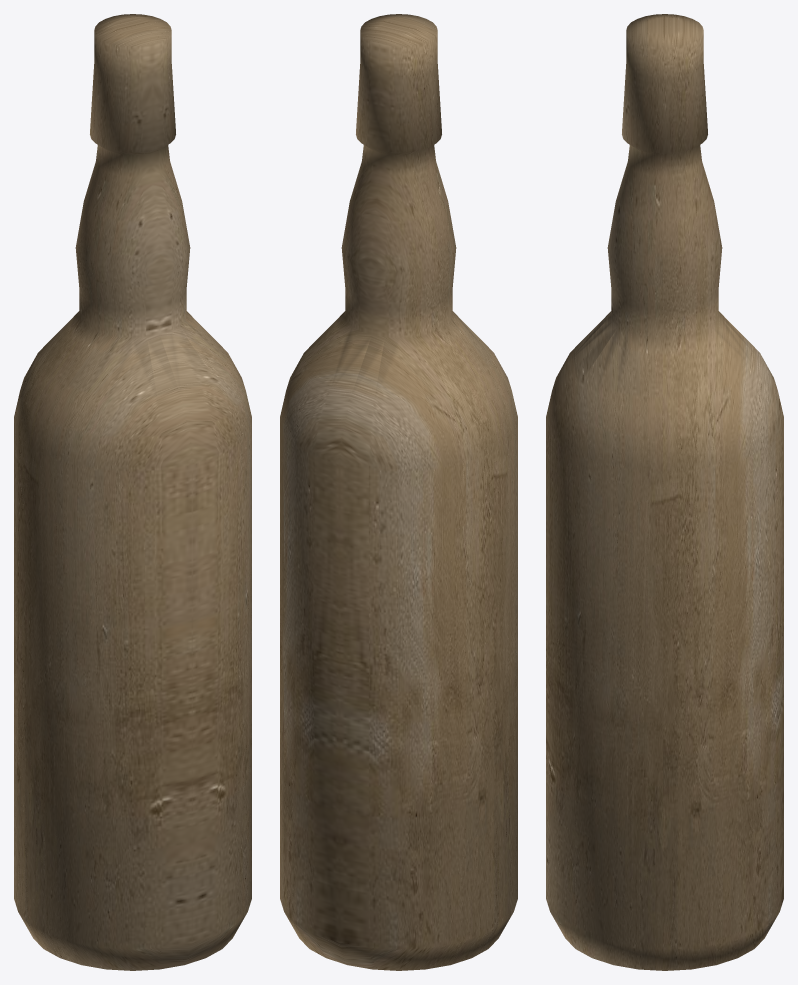
3 renders of one model, left to right at view 1: azimuth 30°, elevation 25°; view 2: azimuth 150°, elevation 25°; view 3: azimuth 270°, elevation 25°, orthographic.
Parts seen in each view (by area): view 1: mesh1_mesh1-geometry; view 2: mesh1_mesh1-geometry; view 3: mesh1_mesh1-geometry.
Boxes of the visible parts, <box> form: mesh1_mesh1-geometry: <box>14,14,251,970</box>; mesh1_mesh1-geometry: <box>280,14,517,970</box>; mesh1_mesh1-geometry: <box>546,14,783,970</box>.
Size of the model in its own units: 0.2236 by 0.9487 by 0.2236.
